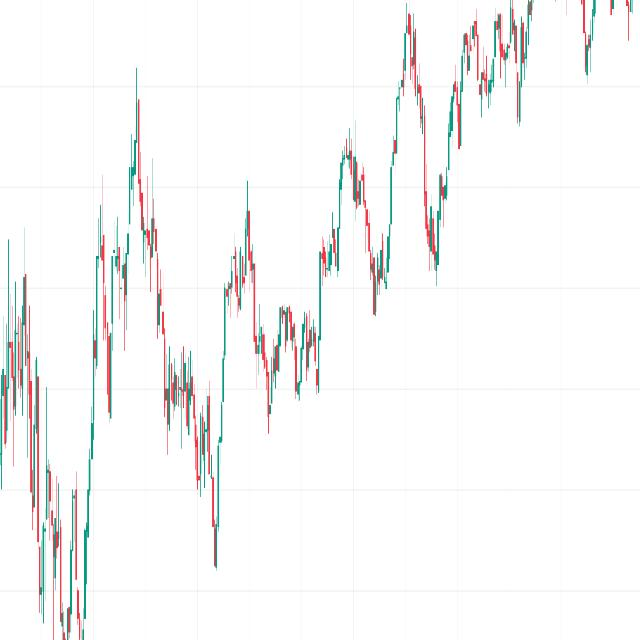Triple-Bottom: (252, 290, 328, 426)
